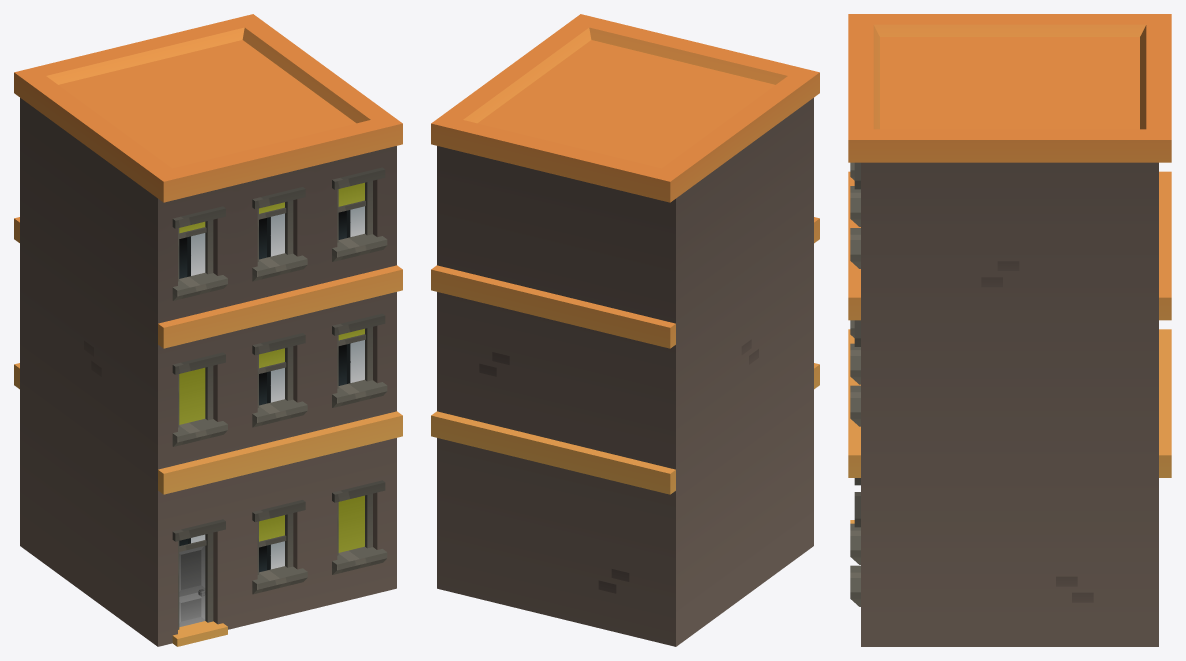
Rendered from building4.obj.
3 renders of one model, left to right at view 1: azimuth 30°, elevation 25°; view 2: azimuth 150°, elevation 25°; view 3: azimuth 270°, elevation 25°, orthographic. The views are drawn at different scales.
Parts seen in each view (by area): view 1: building_C_withoutBase_Cube.940; view 2: building_C_withoutBase_Cube.940; view 3: building_C_withoutBase_Cube.940.
Boxes of the visible parts, bbox=[...] form: building_C_withoutBase_Cube.940: bbox=[14, 14, 402, 646]; building_C_withoutBase_Cube.940: bbox=[431, 14, 819, 646]; building_C_withoutBase_Cube.940: bbox=[848, 14, 1171, 646].
Size of the model in its own units: 1.21 by 2.25 by 1.3.
